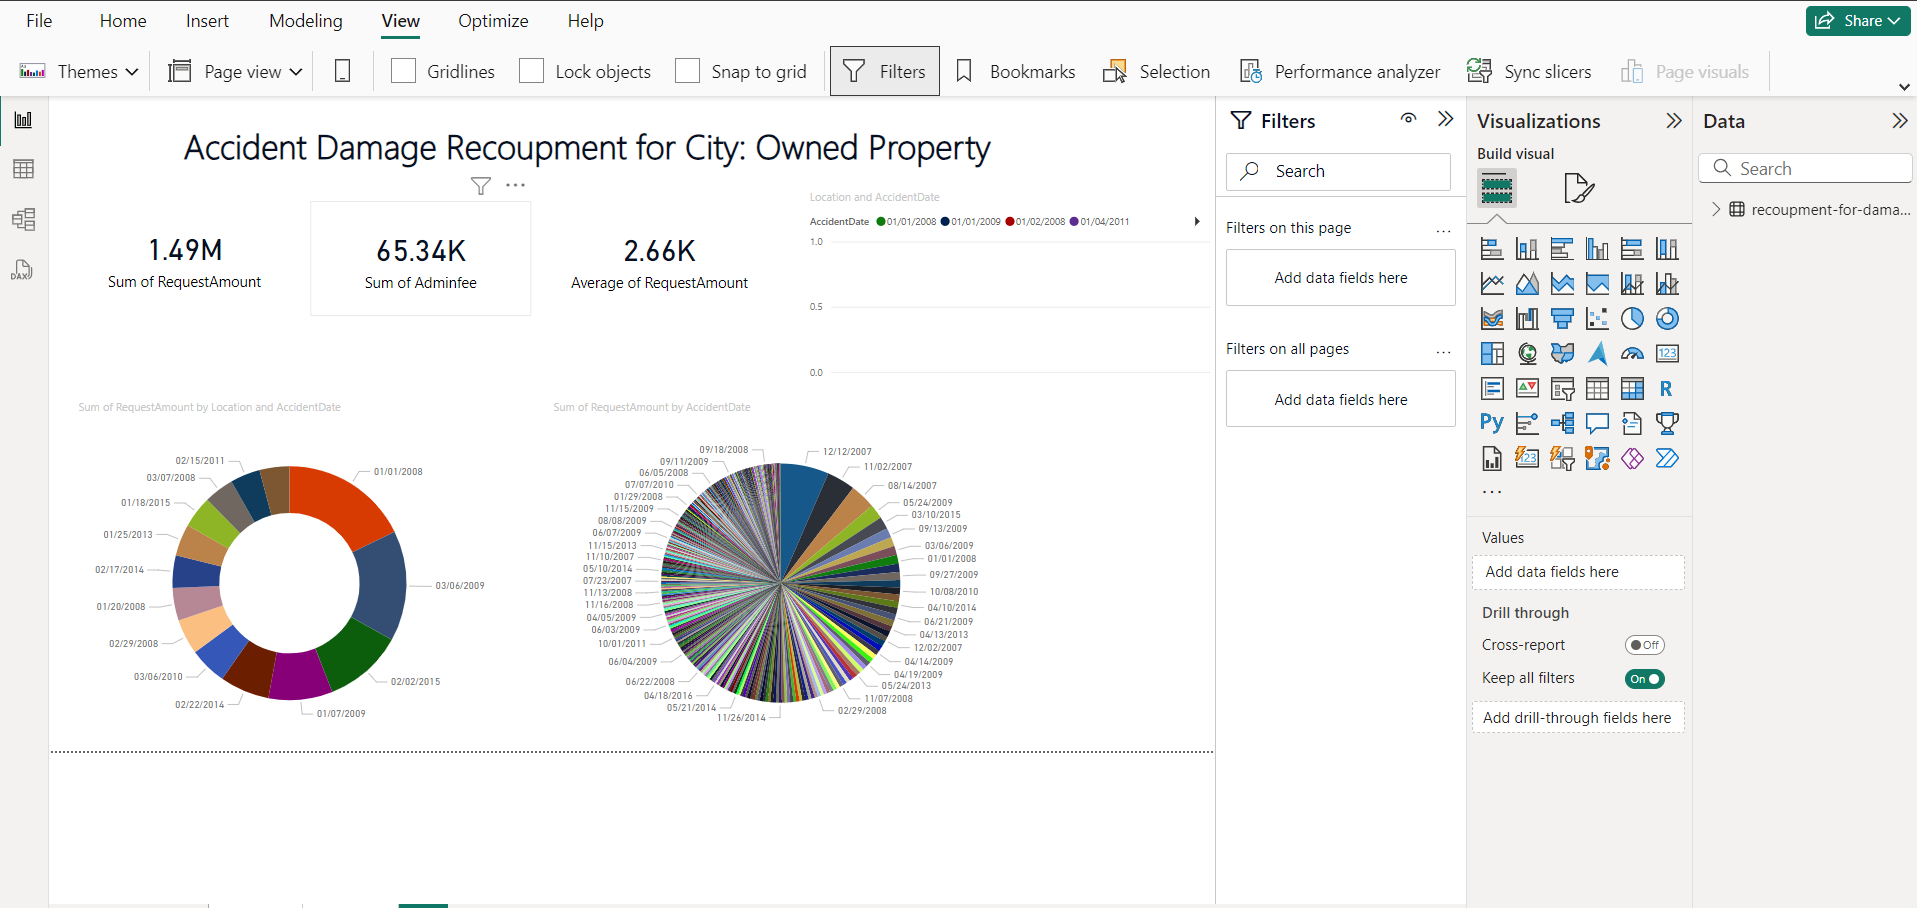

The page's visual inventory and layout, read from the dashboard file:
{"tool":"powerbi","page":{"name":"Page 1","canvas":[1280,720],"ordinal":0},"visuals":[{"type":"card","fields":{"Values":["Sum(recoupment-for-damaged-city-owned-property-1.RequestAmount)"]},"box":[27.4,112.5,242.9,129],"z":0},{"type":"card","fields":{"Values":["Sum(recoupment-for-damaged-city-owned-property-1.Adminfee)"]},"box":[286.8,115.3,242.9,126.2],"z":1},{"type":"textbox","box":[27.4,24.7,1126.6,61.7],"z":2},{"type":"card","fields":{"Values":["Avg(recoupment-for-damaged-city-owned-property-1.RequestAmount)"]},"box":[548.9,115.3,242.9,126.2],"z":3},{"type":"donutChart","fields":{"Category":["recoupment-for-damaged-city-owned-property-1.Location"],"Y":["Sum(recoupment-for-damaged-city-owned-property-1.RequestAmount)"],"Series":["recoupment-for-damaged-city-owned-property-1.AccidentDate"]},"box":[27.4,333.4,473.4,387],"z":4},{"type":"pieChart","fields":{"Category":["recoupment-for-damaged-city-owned-property-1.AccidentDate"],"Y":["Sum(recoupment-for-damaged-city-owned-property-1.RequestAmount)"]},"box":[548.9,333.4,509.1,387],"z":5},{"type":"clusteredColumnChart","fields":{"Category":["recoupment-for-damaged-city-owned-property-1.Location"],"Series":["recoupment-for-damaged-city-owned-property-1.AccidentDate"]},"box":[830.2,102.9,450.1,212.7],"z":6}]}

Visuals, with their boxes on the page's 1280x720 design canvas (x1, y1, x2, y2). These are canvas units, not pixel positions in the 1917x908 screenshot, which may show the page scaled, cropped or inside an application window:
card - Sum(recoupment-for-damaged-city-owned-property-1.RequestAmount): <bbox>27, 112, 270, 242</bbox>
card - Sum(recoupment-for-damaged-city-owned-property-1.Adminfee): <bbox>287, 115, 530, 242</bbox>
textbox: <bbox>27, 25, 1154, 86</bbox>
card - Avg(recoupment-for-damaged-city-owned-property-1.RequestAmount): <bbox>549, 115, 792, 242</bbox>
donutChart - recoupment-for-damaged-city-owned-property-1.Location x Sum(recoupment-for-damaged-city-owned-property-1.RequestAmount): <bbox>27, 333, 501, 720</bbox>
pieChart - recoupment-for-damaged-city-owned-property-1.AccidentDate x Sum(recoupment-for-damaged-city-owned-property-1.RequestAmount): <bbox>549, 333, 1058, 720</bbox>
clusteredColumnChart - recoupment-for-damaged-city-owned-property-1.Location x recoupment-for-damaged-city-owned-property-1.AccidentDate: <bbox>830, 103, 1280, 316</bbox>
